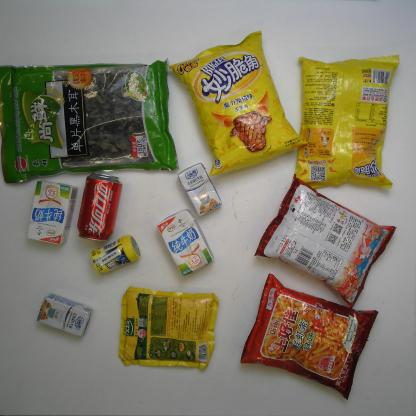Dried Food: (1, 58, 180, 184)
Drink: (76, 172, 122, 242)
Gum: (90, 234, 141, 276)
Milk: (157, 209, 215, 277), (26, 180, 78, 245), (177, 162, 223, 218), (36, 293, 92, 337)
Puffed Food: (167, 30, 308, 177), (254, 174, 397, 310), (240, 274, 378, 400), (294, 54, 400, 189)
Seasoner: (118, 286, 219, 370)
